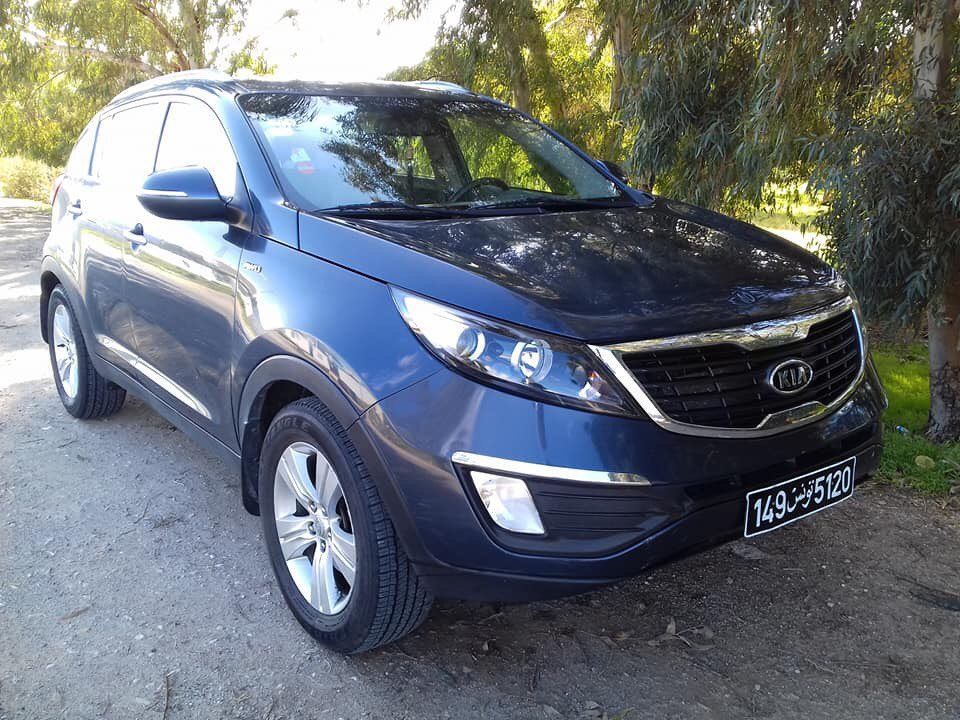LP: (741, 454, 861, 539)
